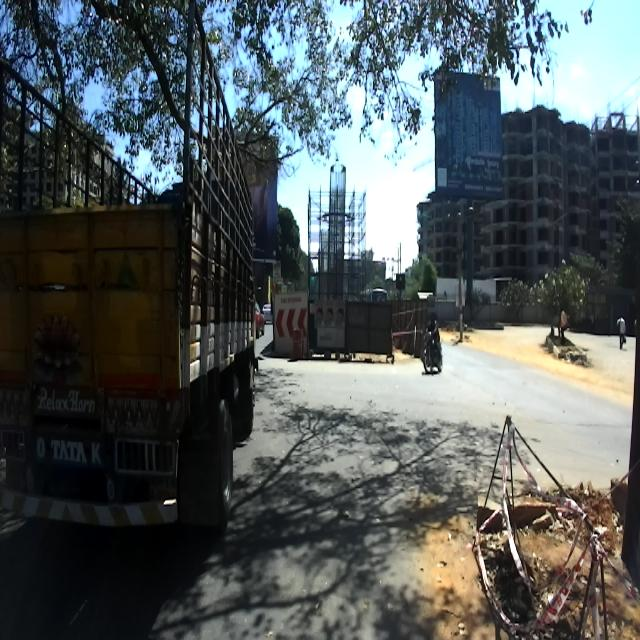barrier ahead at: (274, 290, 391, 362)
truck ahead at: (0, 0, 262, 553)
